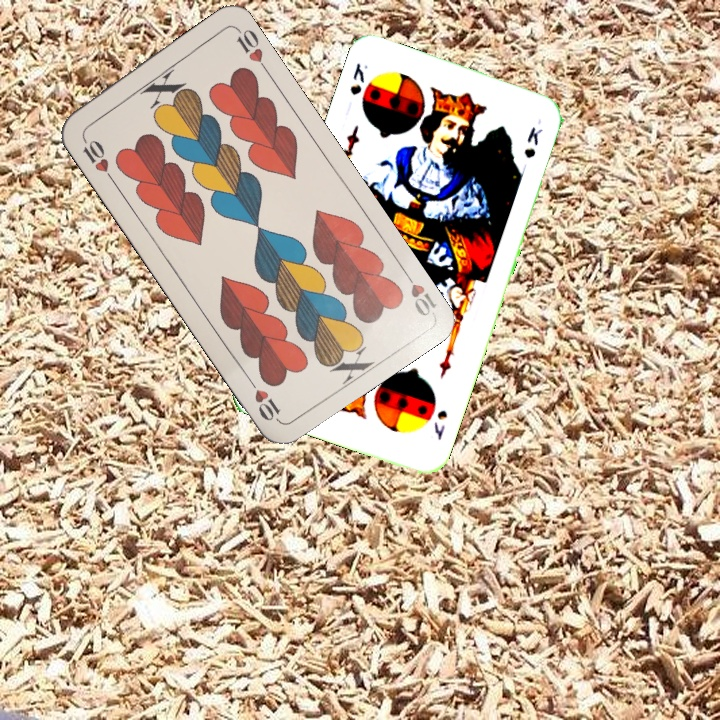H10: (397, 264, 439, 320), (77, 131, 117, 184)
SK: (345, 58, 371, 98), (430, 406, 450, 443)
